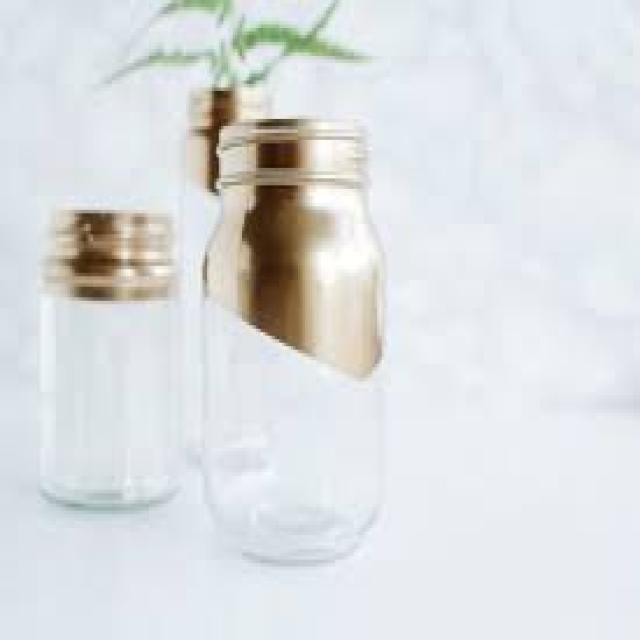Anorganik: (198, 115, 384, 556), (40, 206, 179, 507)
